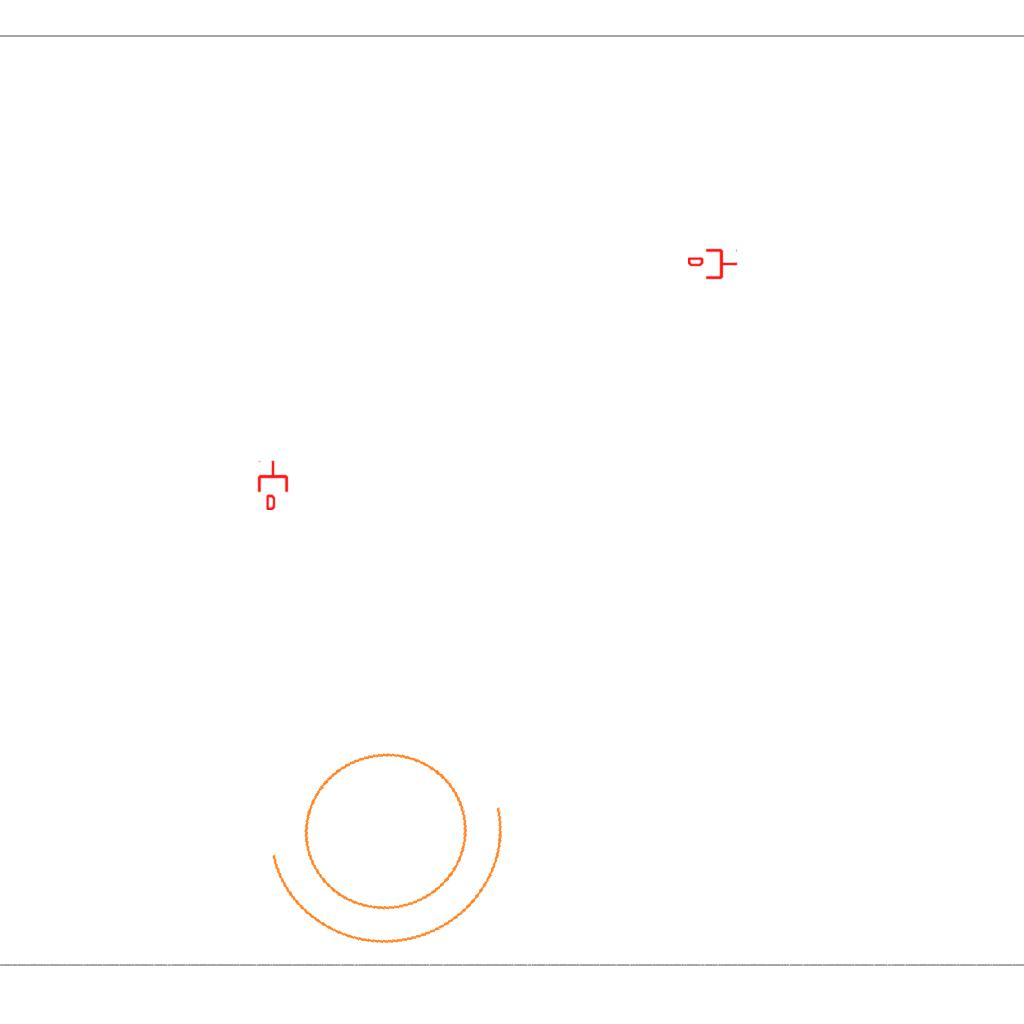Datenanschluss_einfach: (256, 460, 290, 510), (688, 247, 738, 281)
Scheinwerfer_fuer_Alarmbeleuchtung: (241, 702, 547, 977)
